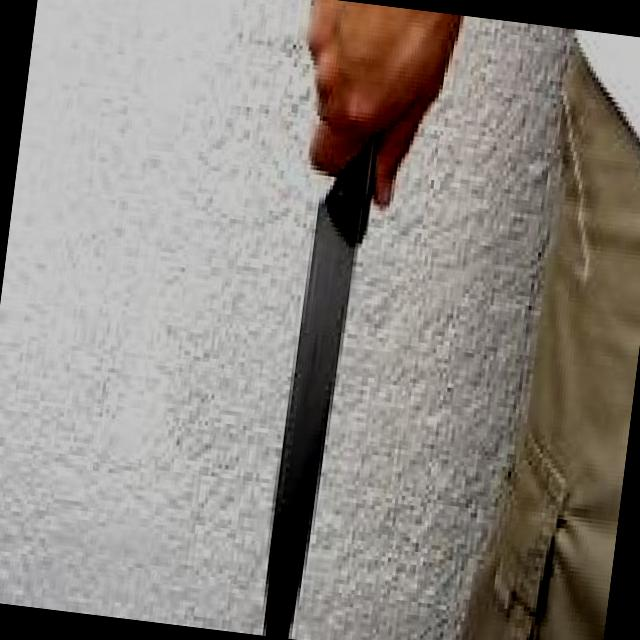knife: (234, 39, 422, 639)
